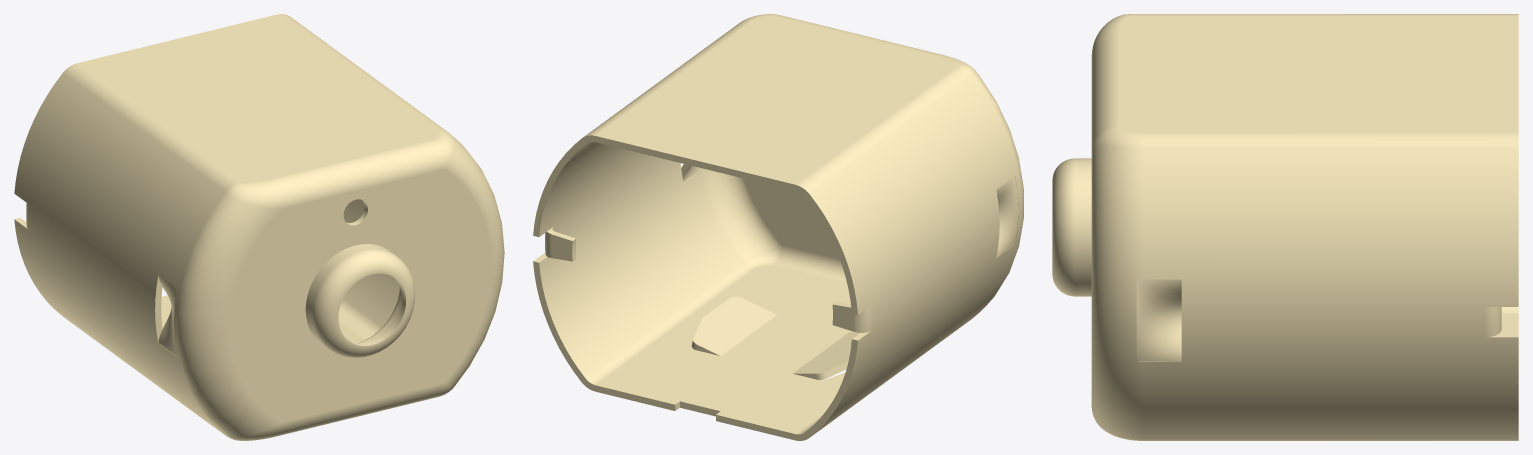
File: housing_front.gltf
3 renders of one model, left to right at view 1: azimuth 30°, elevation 25°; view 2: azimuth 150°, elevation 25°; view 3: azimuth 270°, elevation 25°, orthographic. The views are drawn at different scales.
Visible parts, largest first — view 1: Part1; view 2: Part1; view 3: Part1.
Part boxes in pixels (bbox=[...]): Part1: bbox=[14, 14, 504, 440]; Part1: bbox=[533, 14, 1023, 440]; Part1: bbox=[1052, 14, 1518, 440].
Size of the model in its own units: 0.02 by 0.015 by 0.0207.
